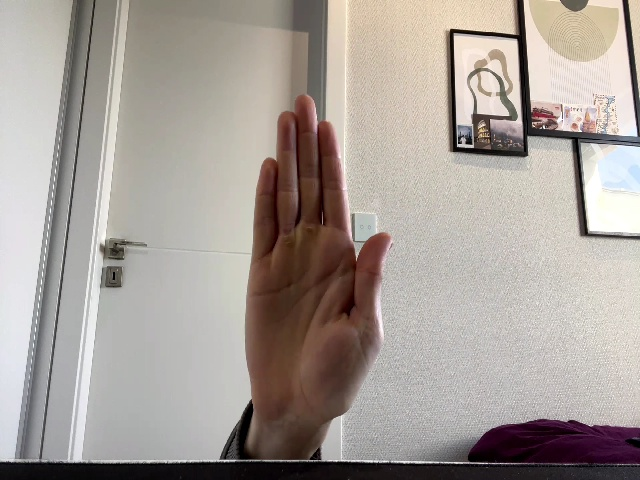B: (246, 94, 393, 416)
